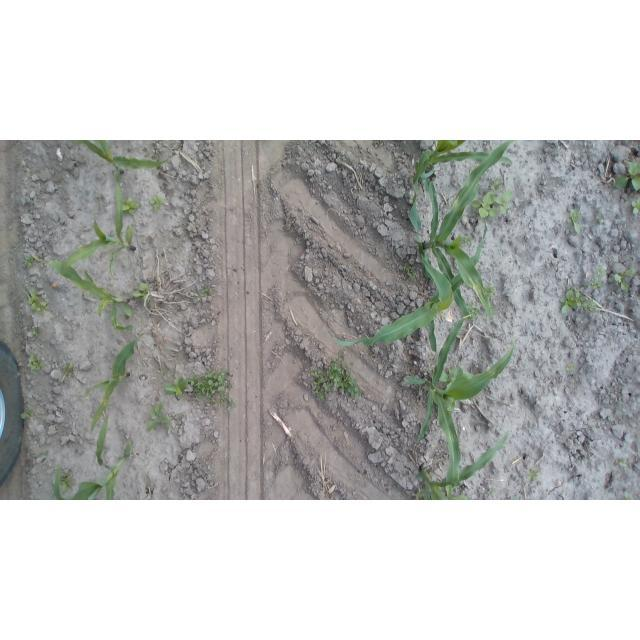Maize: (328, 141, 513, 349), (403, 315, 518, 482), (78, 142, 178, 241), (36, 258, 136, 334), (60, 192, 145, 278), (412, 430, 511, 499), (51, 416, 131, 499), (73, 341, 139, 431)
Weeds: (167, 370, 236, 410), (310, 363, 362, 406), (560, 285, 597, 320), (473, 193, 512, 224), (613, 160, 640, 193), (147, 403, 169, 434), (564, 207, 584, 239), (614, 263, 633, 296), (26, 290, 49, 315), (134, 283, 152, 306), (54, 472, 75, 490), (403, 262, 421, 282), (195, 286, 218, 301), (63, 360, 78, 380), (21, 256, 36, 276), (122, 198, 138, 216), (616, 458, 631, 474), (149, 196, 167, 209), (28, 353, 41, 371), (526, 467, 538, 484), (631, 197, 640, 215), (22, 412, 36, 423), (463, 232, 472, 248), (567, 361, 574, 376), (30, 331, 43, 338)
